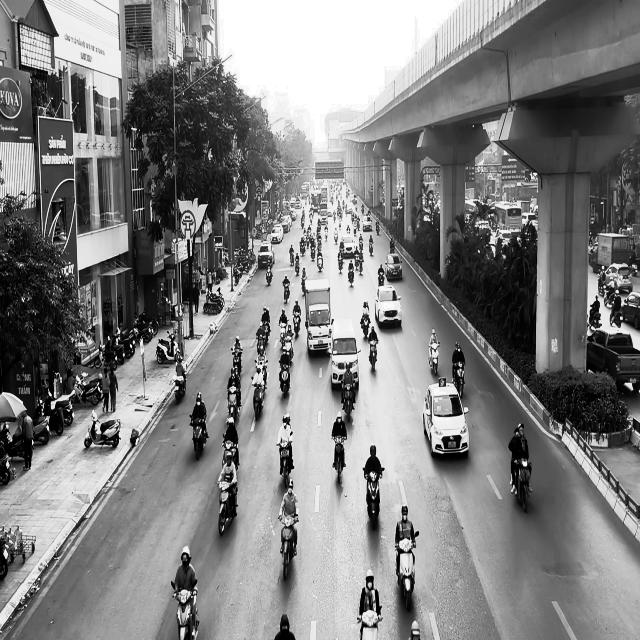car: (422, 377, 469, 457), (374, 285, 402, 327), (384, 253, 402, 280)
motorbike: (394, 532, 418, 612), (171, 580, 199, 640), (362, 466, 385, 530), (84, 411, 121, 448), (279, 514, 298, 580), (217, 479, 238, 536), (511, 458, 532, 512), (276, 433, 294, 488), (189, 414, 208, 459), (357, 610, 382, 640), (331, 435, 346, 484), (250, 376, 266, 420), (222, 433, 239, 469), (341, 381, 355, 422), (172, 370, 187, 403), (278, 359, 291, 397), (452, 362, 465, 398), (227, 386, 240, 421), (428, 341, 439, 375), (368, 339, 378, 371), (360, 314, 370, 337), (283, 280, 290, 304), (266, 262, 273, 284)
truck: (304, 278, 332, 355)
